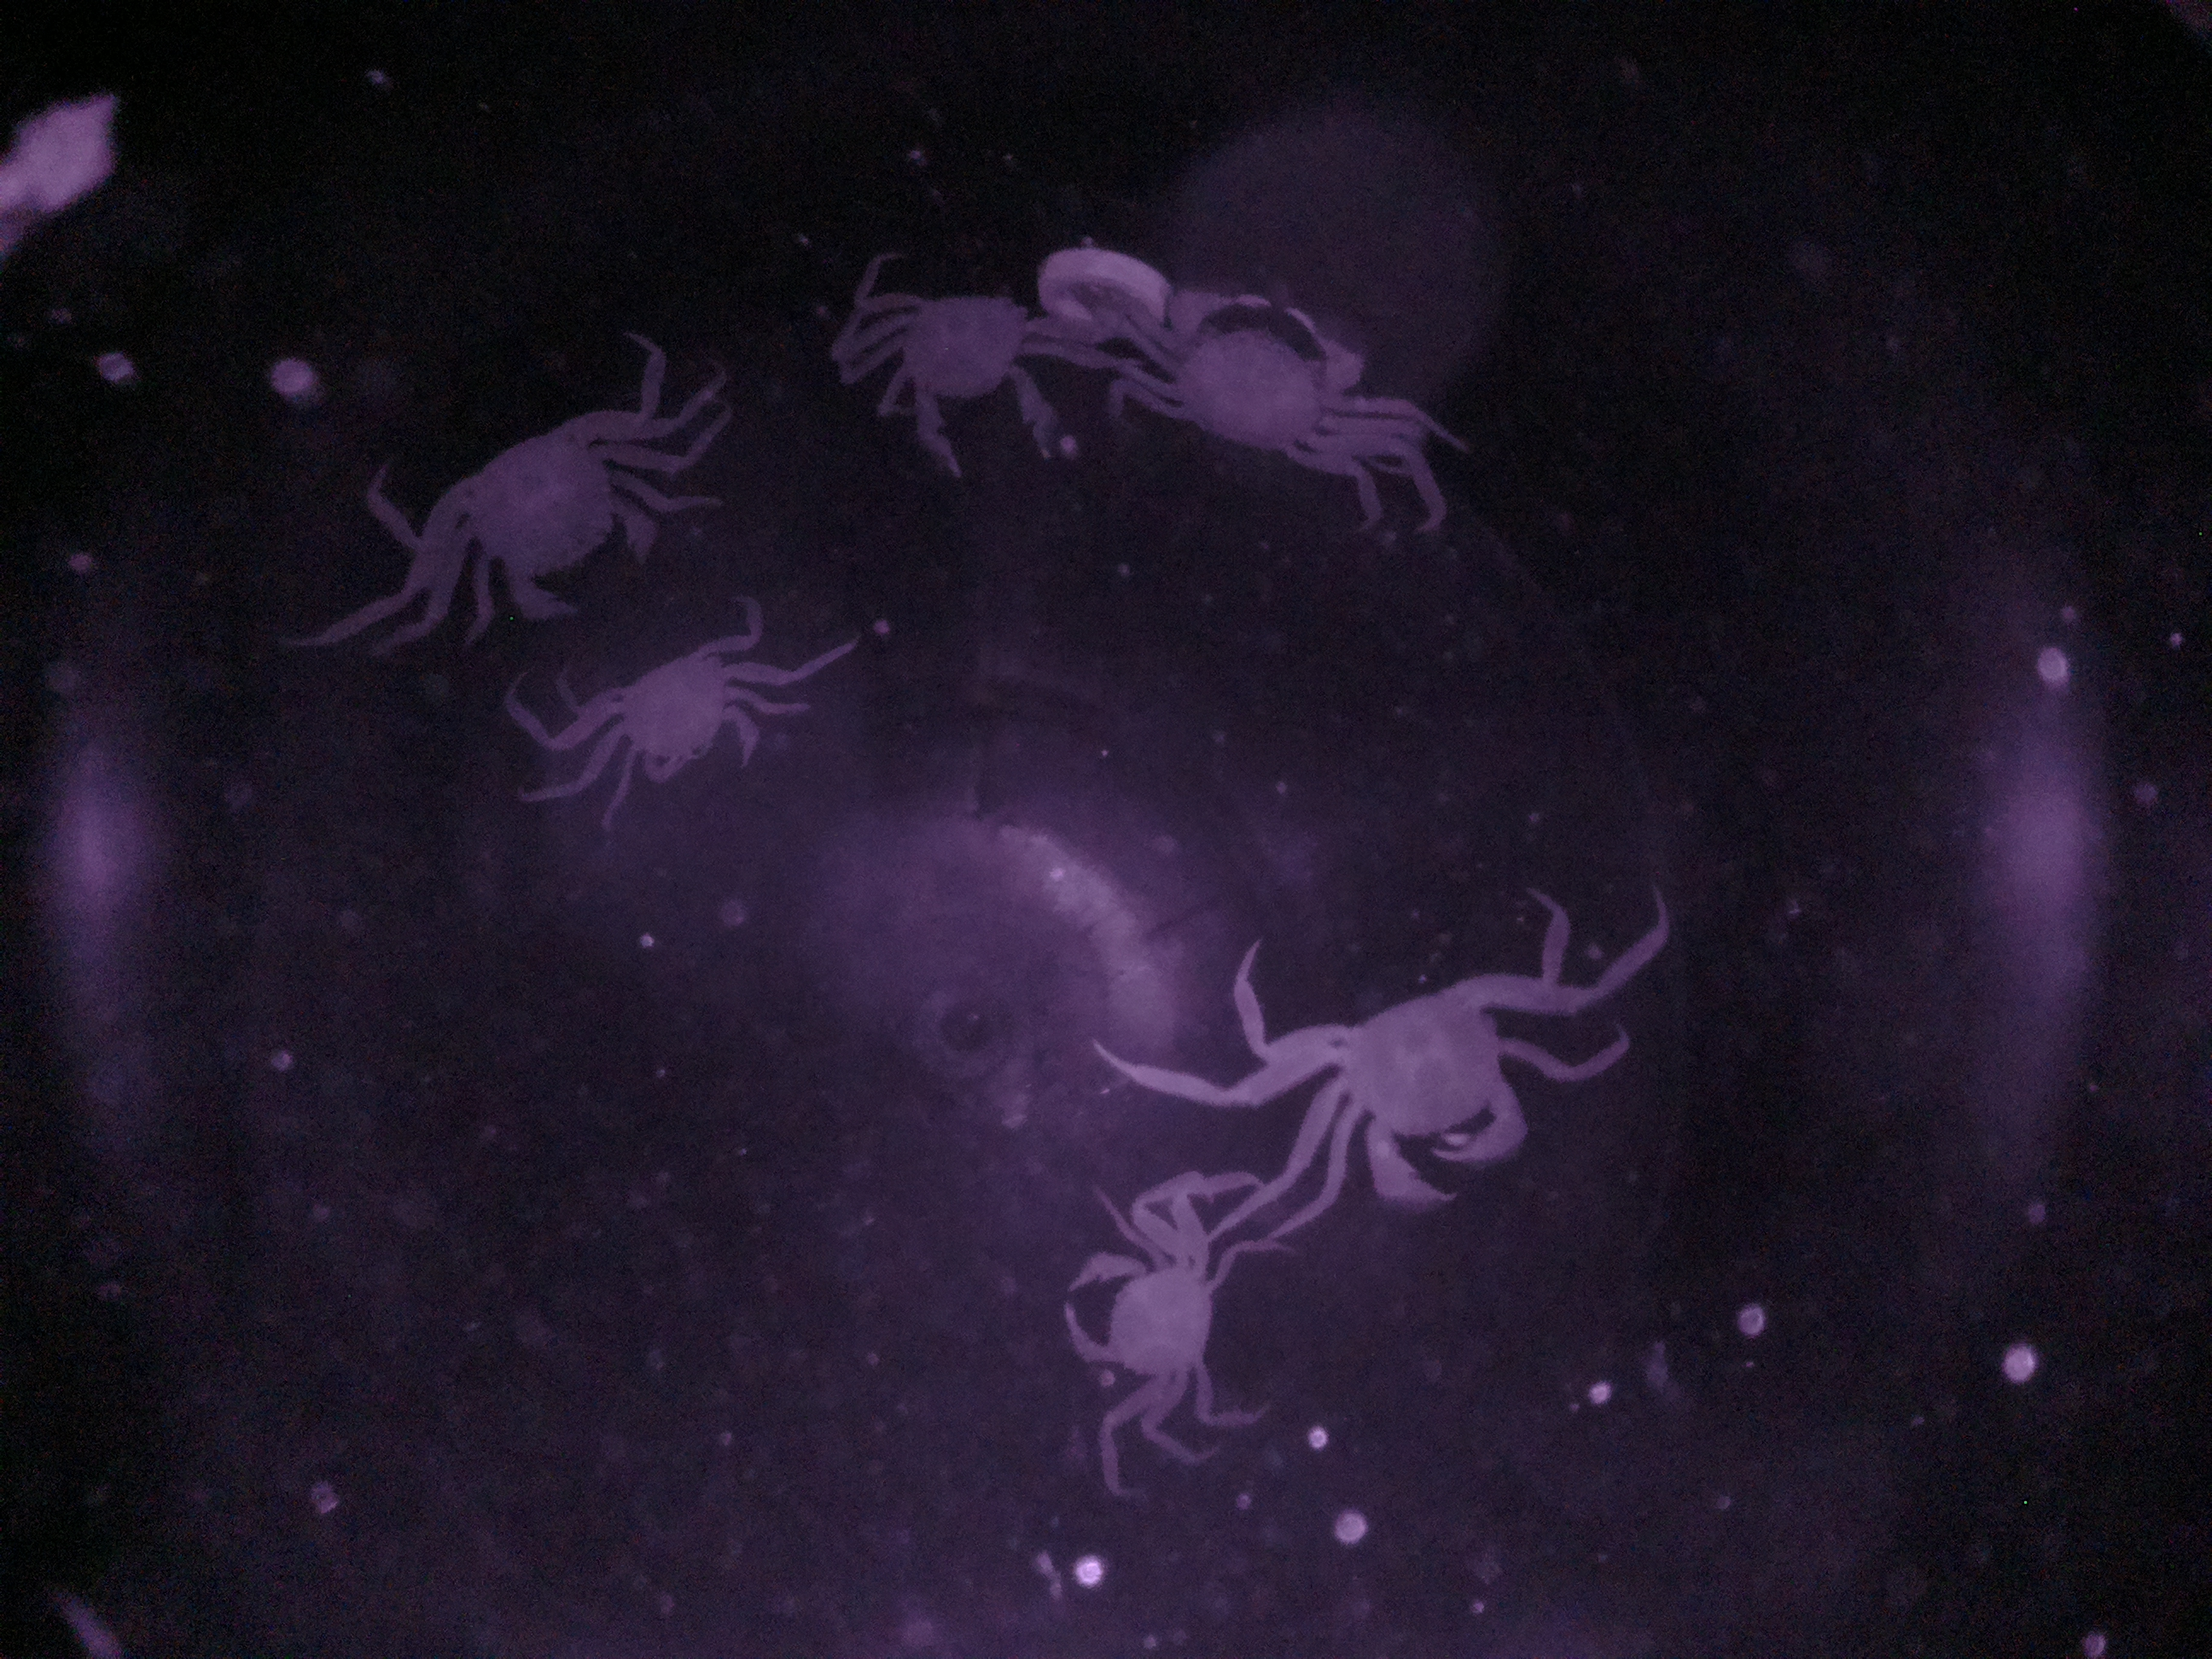Crab: (1282, 965, 1573, 1208), (409, 392, 665, 615), (1137, 277, 1381, 497), (874, 253, 1075, 481), (1049, 1202, 1233, 1408), (603, 636, 761, 826)
